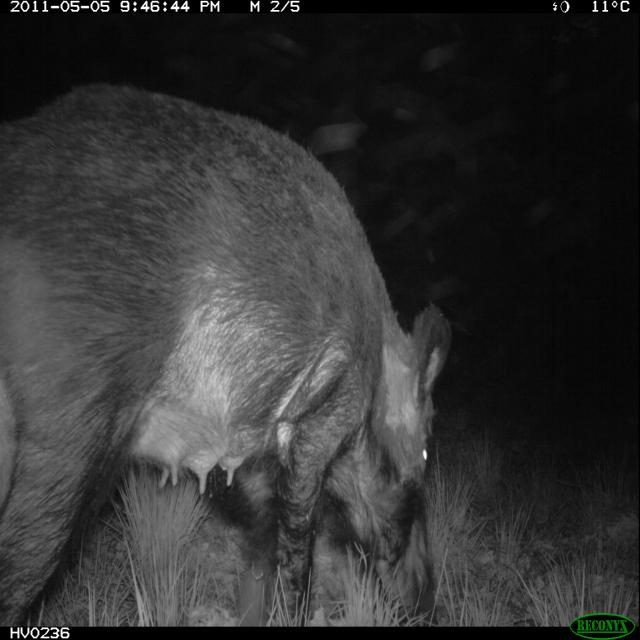boar: (0, 78, 573, 632)
